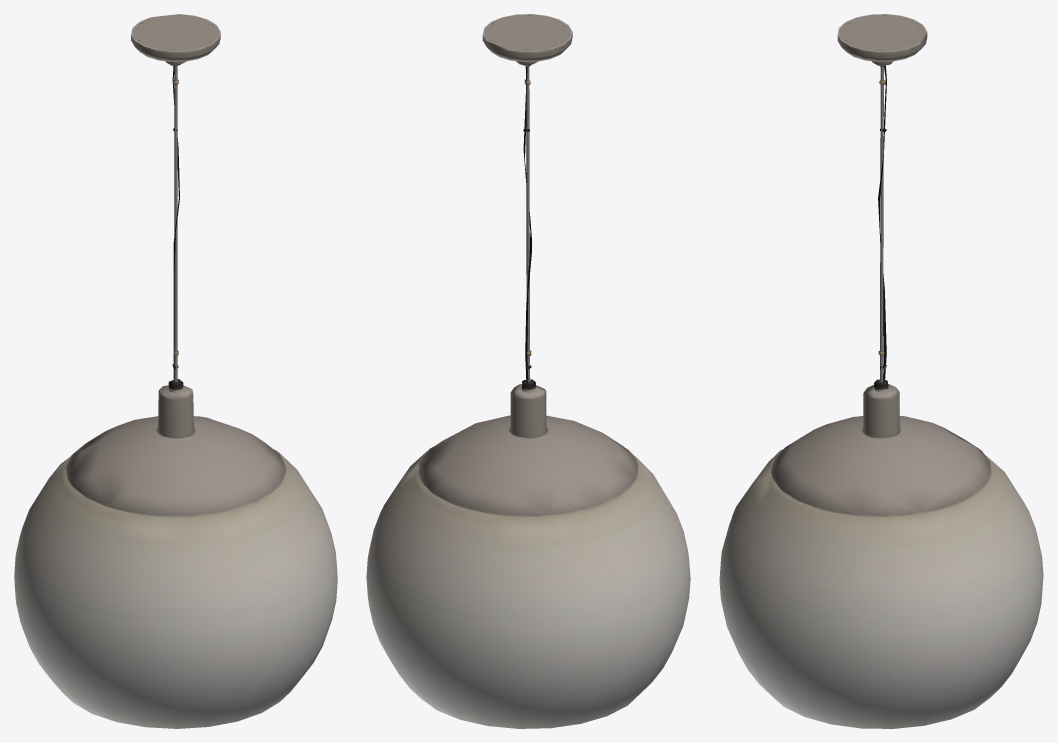
Rendered from lib_ceiling_pendant_aaa-a508d0b8e41f.glb.
3 renders of one model, left to right at view 1: azimuth 30°, elevation 25°; view 2: azimuth 150°, elevation 25°; view 3: azimuth 270°, elevation 25°, orthographic.
Parts seen in each view (by area): view 1: modern_ceiling_lamp_01; view 2: modern_ceiling_lamp_01; view 3: modern_ceiling_lamp_01.
Part boxes in pixels (x1,y1,x2,y2): modern_ceiling_lamp_01: [14, 14, 337, 728]; modern_ceiling_lamp_01: [366, 14, 690, 728]; modern_ceiling_lamp_01: [719, 14, 1043, 728].
Size of the model in its own units: 0.4316 by 0.9512 by 0.4316.
Materials: 2 (2 with a texture image).
